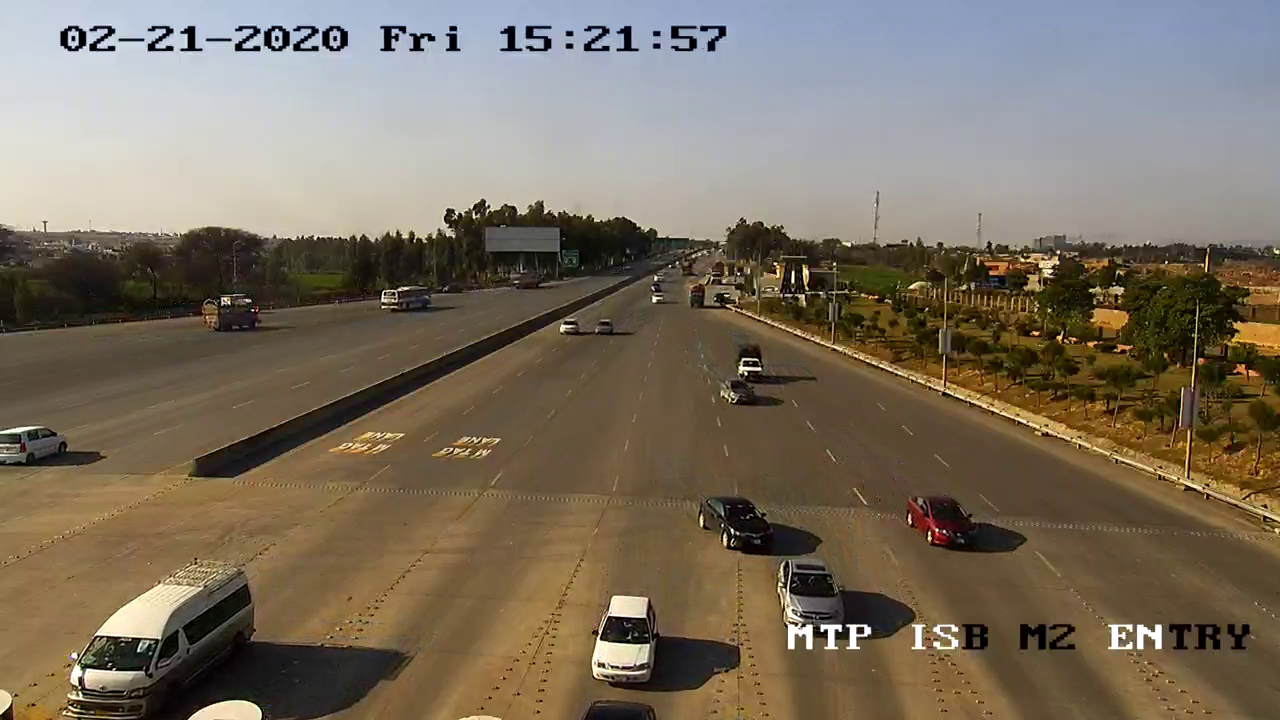f1: (580, 589, 671, 693), (900, 484, 990, 561)
f2: (56, 554, 258, 720)
